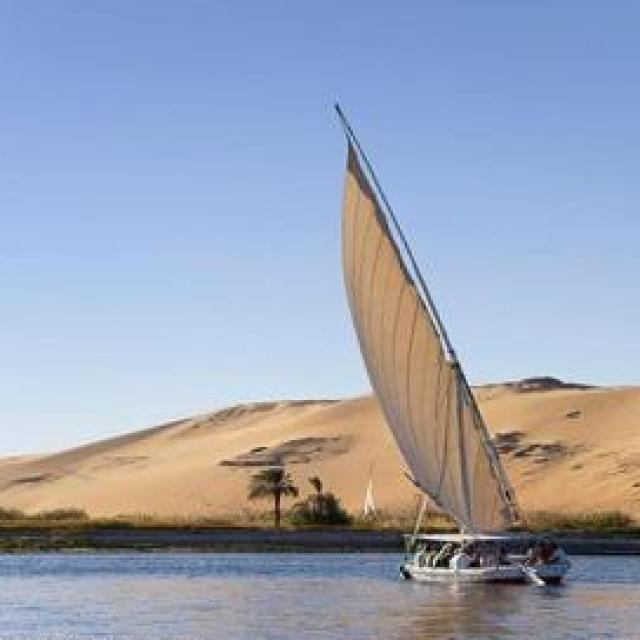sailboat: (326, 96, 575, 584)
